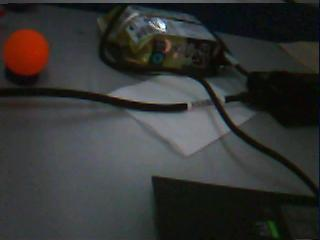oball: (2, 29, 49, 75)
